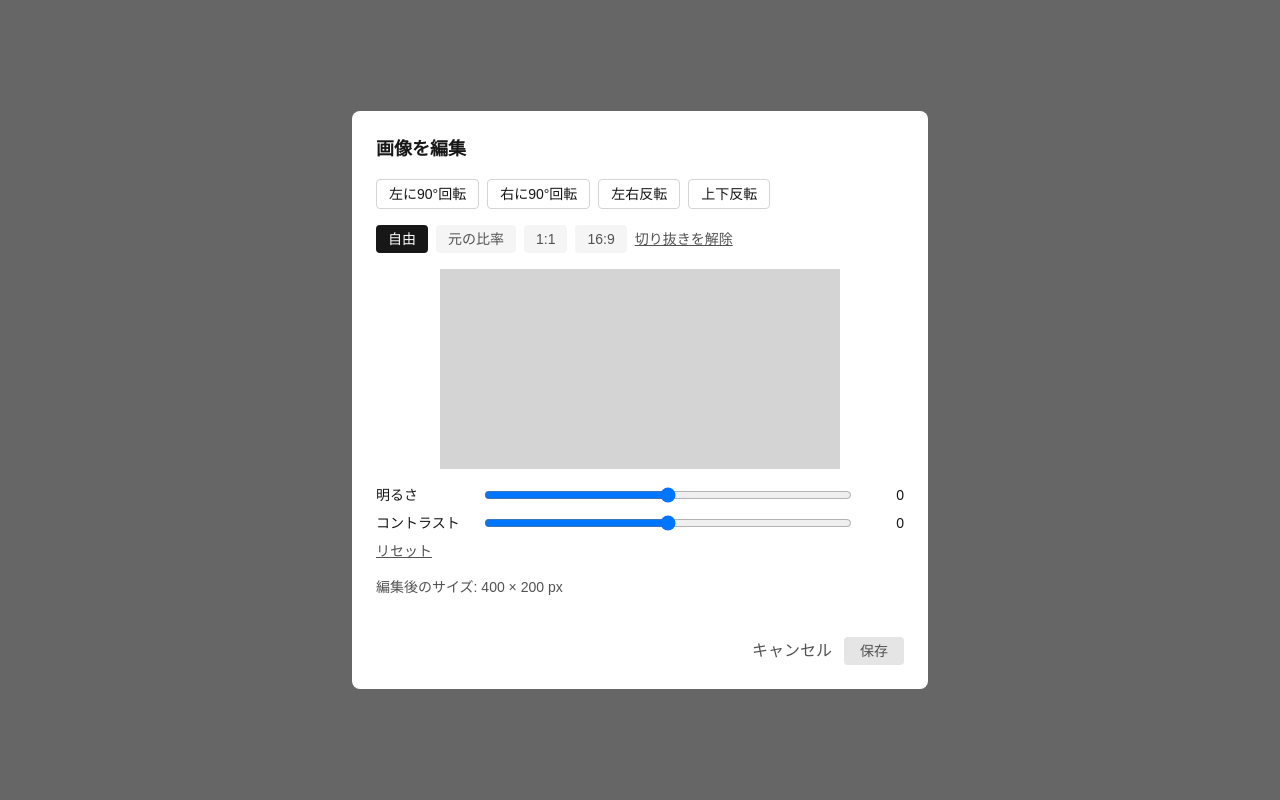
Test: ImageEditDialog 切り抜き(issue #1655) › 元の比率を選ぶと画像全体の範囲になる
Click the button "元の比率" at coordinates (476, 239), box [436,225,516,253]
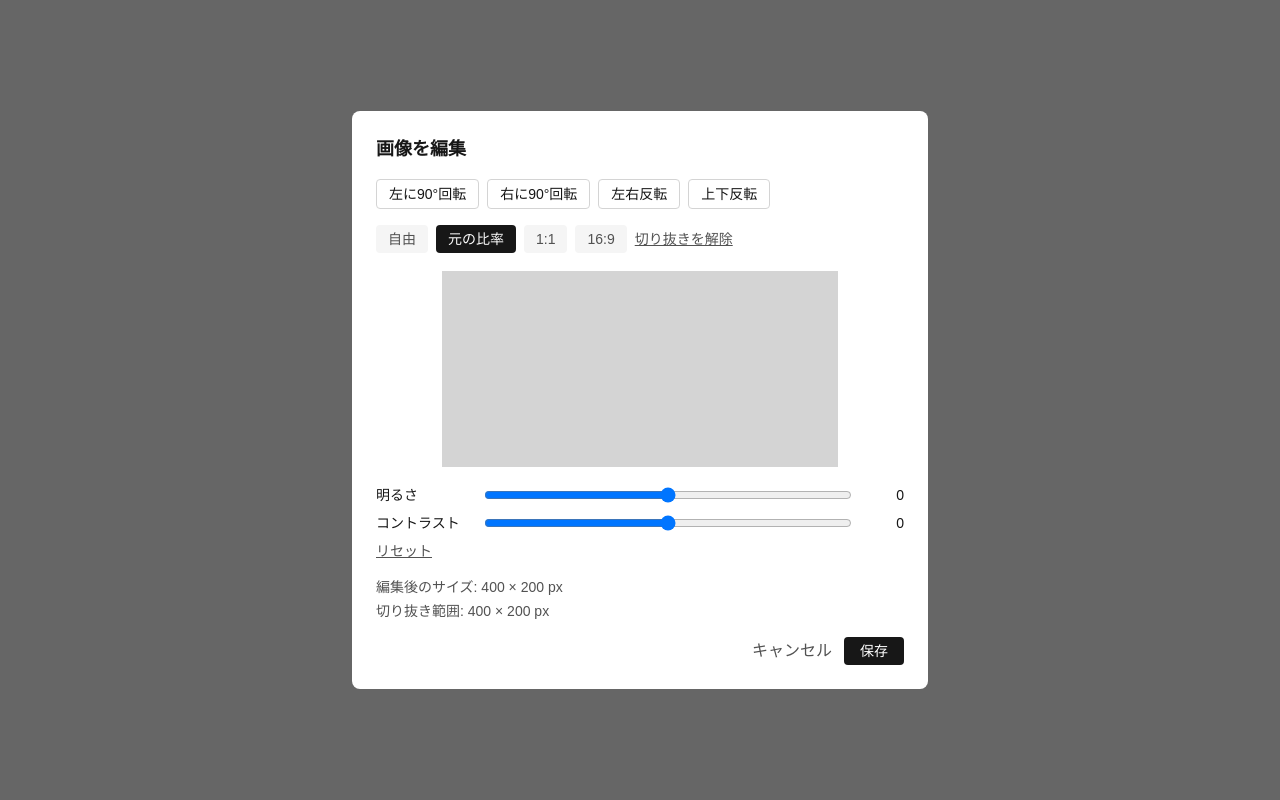
Expected: the text "切り抜き範囲: 400 × 200 px" is shown, [376,603,549,619]
